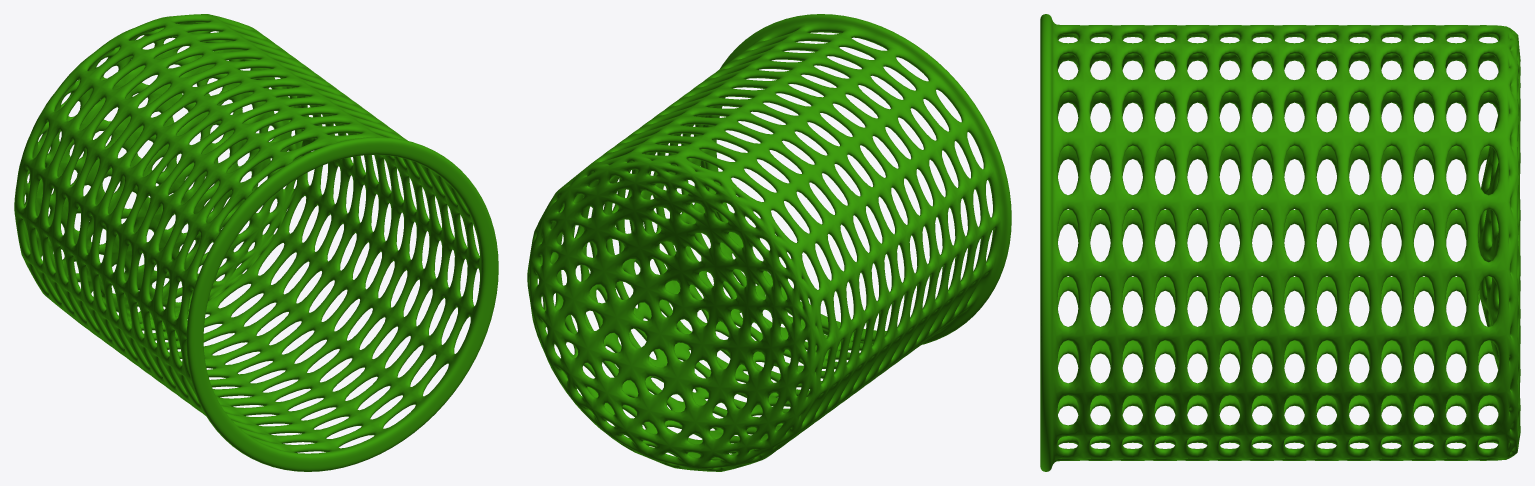
Rendered from holder_a.obj.
3 renders of one model, left to right at view 1: azimuth 30°, elevation 25°; view 2: azimuth 150°, elevation 25°; view 3: azimuth 270°, elevation 25°, orthographic. The views are drawn at different scales.
Size of the model in its own units: 0.0815 by 0.0815 by 0.0855.
